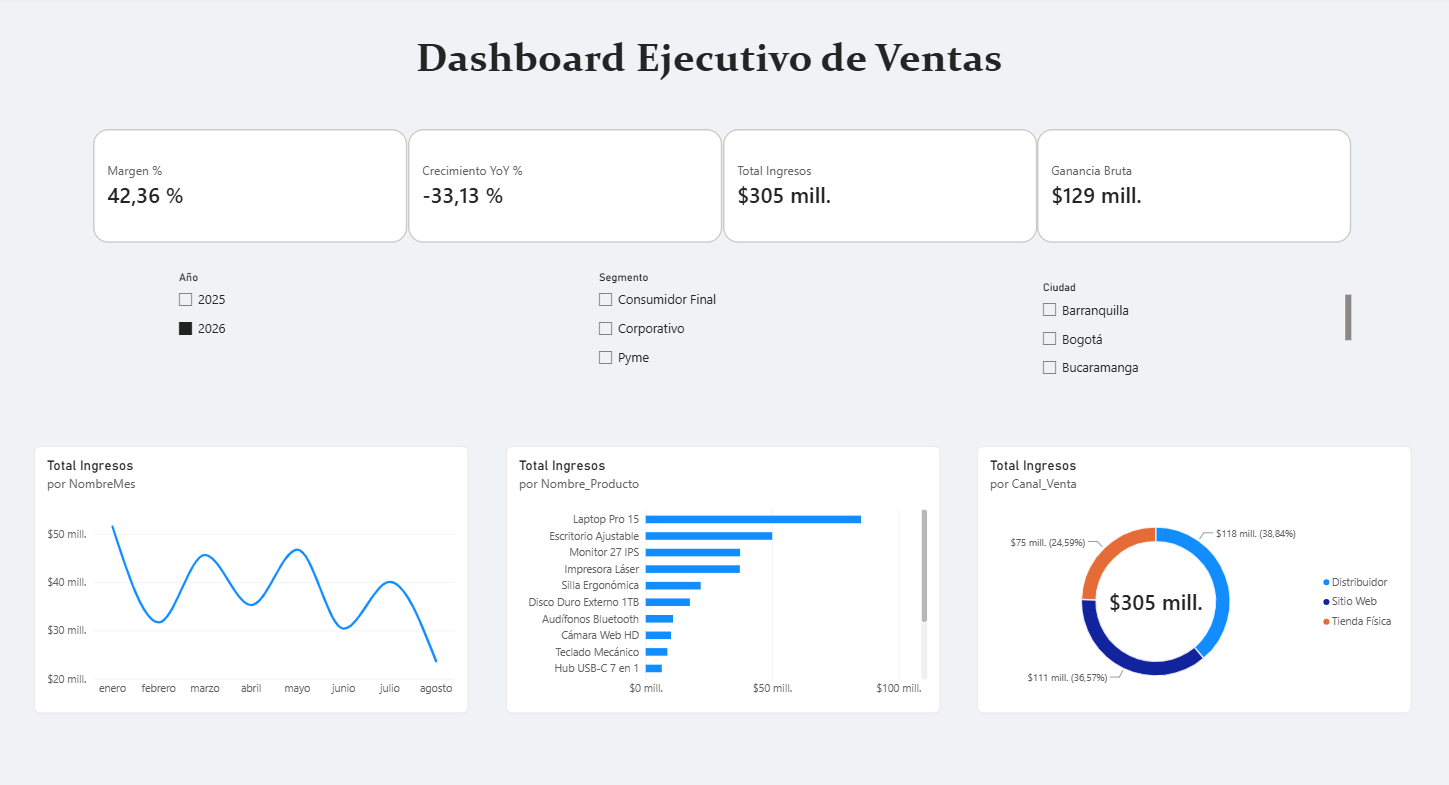

The page's visual inventory and layout, read from the dashboard file:
{"tool":"powerbi","page":{"name":"Página 1","canvas":[1920,1080],"ordinal":0},"visuals":[{"type":"textbox","box":[552.9,46.7,808.3,65.7],"z":0},{"type":"slicer","fields":{"Values":["Dim_Calendario.Año"]},"box":[233.4,360.4,309.3,150.3],"z":1},{"type":"slicer","fields":{"Values":["Dim_Clientes.Segmento"]},"box":[786.4,360.4,414,150],"z":2},{"type":"slicer","fields":{"Values":["Dim_Clientes.Ciudad"]},"box":[1371.4,373.5,414.3,125.5],"z":3},{"type":"cardVisual","fields":{"Data":["_Medidas.Crecimiento YoY %"]},"box":[542.7,173.6,414,150],"z":4},{"type":"cardVisual","fields":{"Data":["_Medidas.Total Ingresos"]},"box":[957.1,173.6,414.3,150.3],"z":5},{"type":"cardVisual","fields":{"Data":["_Medidas.Margen %"]},"box":[128.4,173.6,414.3,150.3],"z":6},{"type":"cardVisual","fields":{"Data":["_Medidas.Ganancia Bruta"]},"box":[1371.4,173.6,414.3,150.3],"z":7},{"type":"lineChart","fields":{"Category":["Dim_Calendario.NombreMes"],"Y":["_Medidas.Total Ingresos"]},"box":[49.6,590.9,571.9,351.6],"z":8},{"type":"clusteredBarChart","fields":{"Category":["Dim_Productos.Nombre_Producto"],"Y":["_Medidas.Total Ingresos"]},"box":[671.1,590.9,571.9,351.6],"z":9},{"type":"donutChart","fields":{"Category":["Fact_Ventas.Canal_Venta"],"Y":["_Medidas.Total Ingresos"]},"box":[1292.6,590.9,571.9,351.6],"z":10}]}

Visuals, with their boxes on the page's 1920x1080 design canvas (x1, y1, x2, y2). These are canvas units, not pixel positions in the 1449x785 screenshot, which may show the page scaled, cropped or inside an application window:
textbox: pyautogui.locateOnScreen(553, 47, 1361, 112)
slicer - Dim_Calendario.Año: pyautogui.locateOnScreen(233, 360, 543, 511)
slicer - Dim_Clientes.Segmento: pyautogui.locateOnScreen(786, 360, 1200, 510)
slicer - Dim_Clientes.Ciudad: pyautogui.locateOnScreen(1371, 374, 1786, 499)
cardVisual - _Medidas.Crecimiento YoY %: pyautogui.locateOnScreen(543, 174, 957, 324)
cardVisual - _Medidas.Total Ingresos: pyautogui.locateOnScreen(957, 174, 1371, 324)
cardVisual - _Medidas.Margen %: pyautogui.locateOnScreen(128, 174, 543, 324)
cardVisual - _Medidas.Ganancia Bruta: pyautogui.locateOnScreen(1371, 174, 1786, 324)
lineChart - Dim_Calendario.NombreMes x _Medidas.Total Ingresos: pyautogui.locateOnScreen(50, 591, 622, 942)
clusteredBarChart - Dim_Productos.Nombre_Producto x _Medidas.Total Ingresos: pyautogui.locateOnScreen(671, 591, 1243, 942)
donutChart - Fact_Ventas.Canal_Venta x _Medidas.Total Ingresos: pyautogui.locateOnScreen(1293, 591, 1864, 942)
